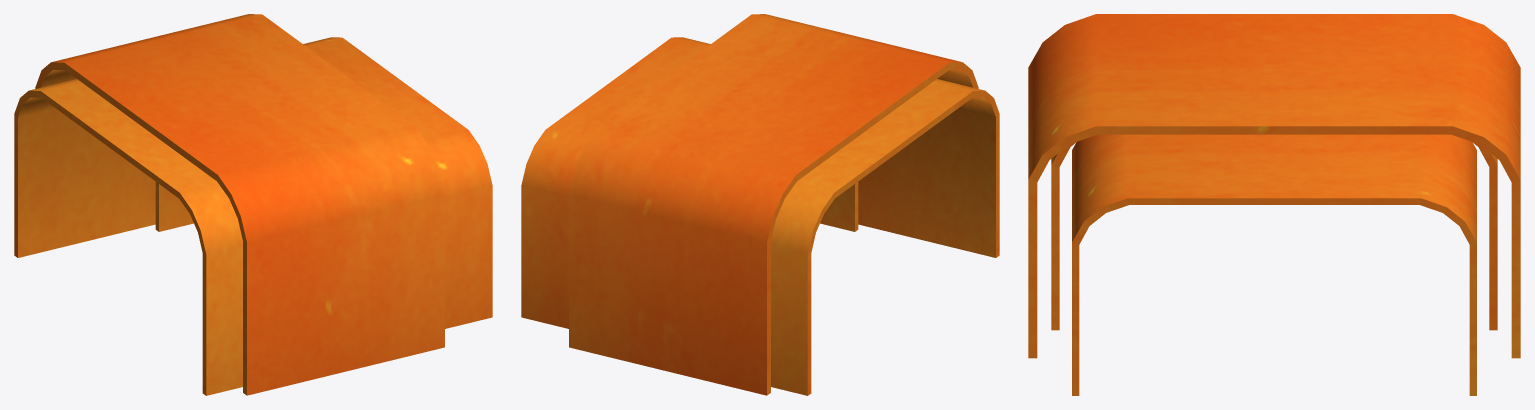
The model's file is stack chair.fbx.
3 renders of one model, left to right at view 1: azimuth 30°, elevation 25°; view 2: azimuth 150°, elevation 25°; view 3: azimuth 270°, elevation 25°, orthographic. The views are drawn at different scales.
Visible parts, largest first — view 1: stack_chair; view 2: stack_chair; view 3: stack_chair.
Part boxes in pixels (left/top/right/bottom): stack_chair: left=14, top=14, right=492, bottom=395; stack_chair: left=521, top=14, right=999, bottom=395; stack_chair: left=1028, top=14, right=1520, bottom=395.
Size of the model in its own units: 76.19 by 49.16 by 94.62.
